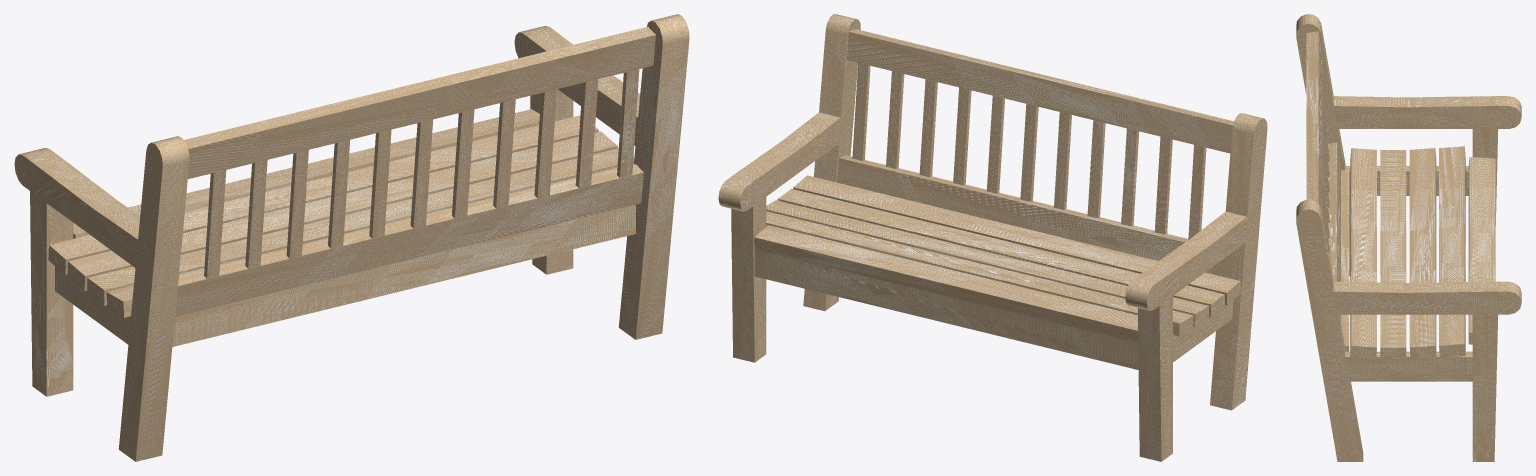
3 views of the same model, side by side, from view 1: azimuth 30°, elevation 25°; view 2: azimuth 150°, elevation 25°; view 3: azimuth 270°, elevation 25° (orthographic). The views are drawn at different scales.
Parts seen in each view (by area): view 1: mesh3_mesh3-geometry, mesh14_mesh14-geometry, mesh1_mesh1-geometry, mesh15_mesh15-geometry, mesh17_mesh17-geometry, mesh7_mesh7-geometry, mesh4_mesh4-geometry, mesh6_mesh6-geometry, mesh5_mesh5-geometry, mesh8_mesh8-geometry, mesh2_mesh2-geometry, mesh13_mesh13-geometry (+4 smaller); view 2: mesh3_mesh3-geometry, mesh1_mesh1-geometry, mesh15_mesh15-geometry, mesh14_mesh14-geometry, mesh8_mesh8-geometry, mesh5_mesh5-geometry, mesh6_mesh6-geometry, mesh7_mesh7-geometry, mesh4_mesh4-geometry, mesh12_mesh12-geometry, mesh2_mesh2-geometry, mesh10_mesh10-geometry (+4 smaller); view 3: mesh1_mesh1-geometry, mesh15_mesh15-geometry, mesh3_mesh3-geometry, mesh14_mesh14-geometry, mesh17_mesh17-geometry.
Boxes of the visible parts, x1,y1,x2,y2 form: mesh3_mesh3-geometry: (73, 26, 655, 346); mesh14_mesh14-geometry: (118, 14, 689, 461); mesh1_mesh1-geometry: (48, 115, 634, 317); mesh15_mesh15-geometry: (14, 26, 640, 396); mesh17_mesh17-geometry: (55, 266, 130, 344); mesh7_mesh7-geometry: (452, 109, 474, 218); mesh4_mesh4-geometry: (575, 79, 598, 188); mesh6_mesh6-geometry: (493, 99, 515, 208); mesh5_mesh5-geometry: (534, 89, 556, 198); mesh8_mesh8-geometry: (410, 119, 433, 228); mesh2_mesh2-geometry: (617, 69, 639, 177); mesh13_mesh13-geometry: (204, 170, 226, 278); mesh3_mesh3-geometry: (754, 29, 1233, 369); mesh1_mesh1-geometry: (766, 175, 1240, 336); mesh15_mesh15-geometry: (718, 112, 1247, 461); mesh14_mesh14-geometry: (803, 14, 1267, 410); mesh8_mesh8-geometry: (1020, 104, 1038, 201); mesh5_mesh5-geometry: (919, 79, 937, 177); mesh6_mesh6-geometry: (953, 87, 971, 185); mesh7_mesh7-geometry: (986, 95, 1004, 193); mesh4_mesh4-geometry: (886, 71, 904, 168); mesh12_mesh12-geometry: (1154, 136, 1172, 234); mesh2_mesh2-geometry: (852, 63, 870, 160); mesh10_mesh10-geometry: (1087, 120, 1105, 218); mesh1_mesh1-geometry: (1350, 146, 1465, 359); mesh15_mesh15-geometry: (1333, 96, 1521, 461); mesh3_mesh3-geometry: (1306, 31, 1495, 351); mesh14_mesh14-geometry: (1296, 14, 1363, 461); mesh17_mesh17-geometry: (1345, 166, 1472, 381).
Size of the model in its own units: 0.7938 by 0.4726 by 0.3828.
